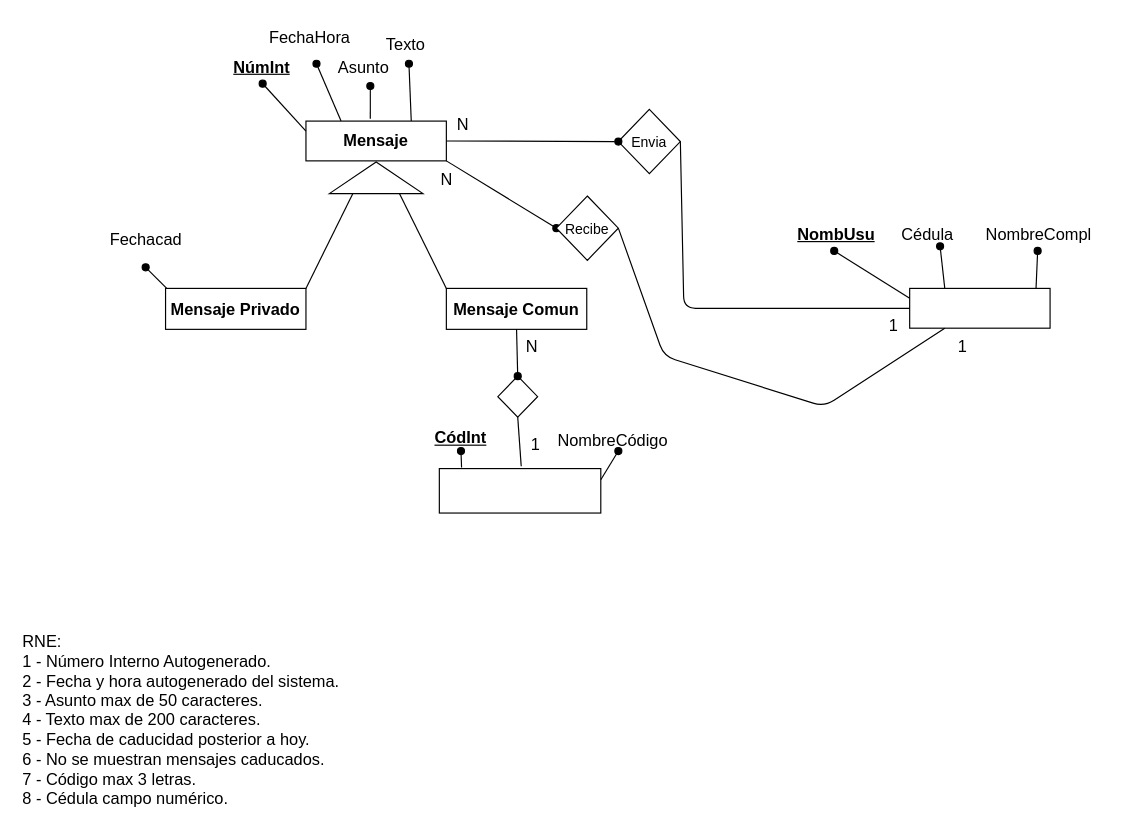
This 1121x834 diagram has some shape labels left out. The shapes that lost their labels are listed below. From the top down, each one's box as (x1, y1, x2, y2) in pixels, then its label:
(909, 287, 1050, 328): Usuario
(438, 467, 601, 513): TipoMsj
